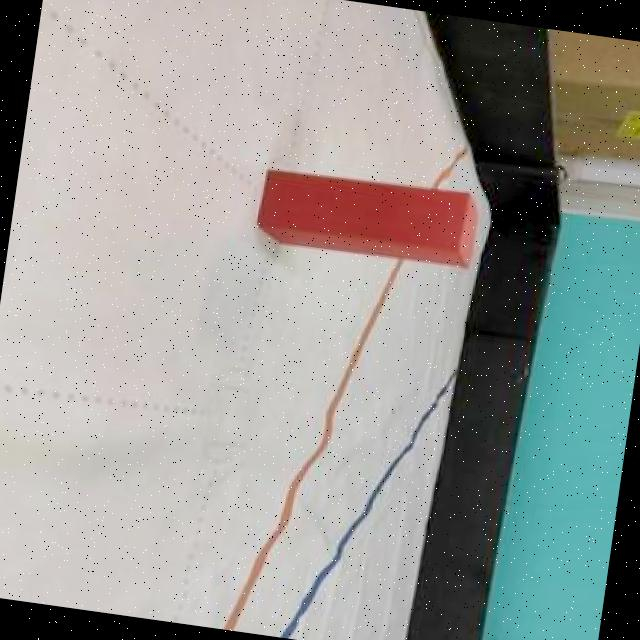redbox: (254, 165, 485, 270)
